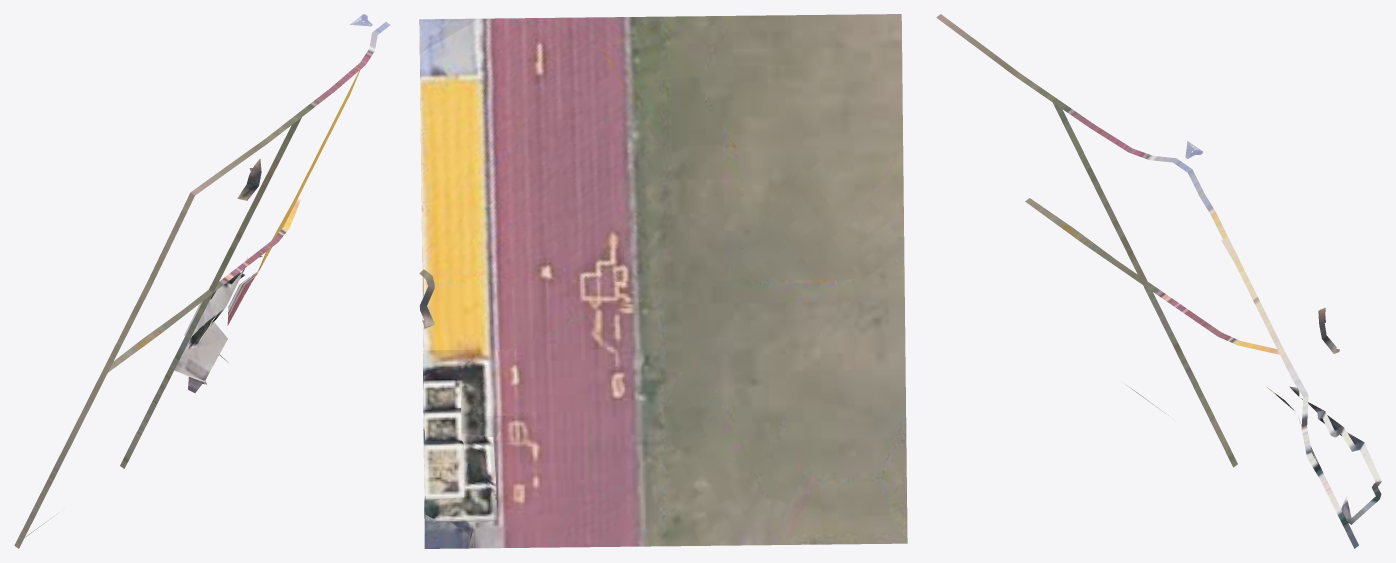
3 views of the same model, side by side, from view 1: azimuth 30°, elevation 25°; view 2: azimuth 150°, elevation 25°; view 3: azimuth 270°, elevation 25° (orthographic). The views are drawn at different scales.
Bounding box in the file's own units: 37.53 × 36.05 × 33.78.
Materials: 1 (1 with a texture image).
